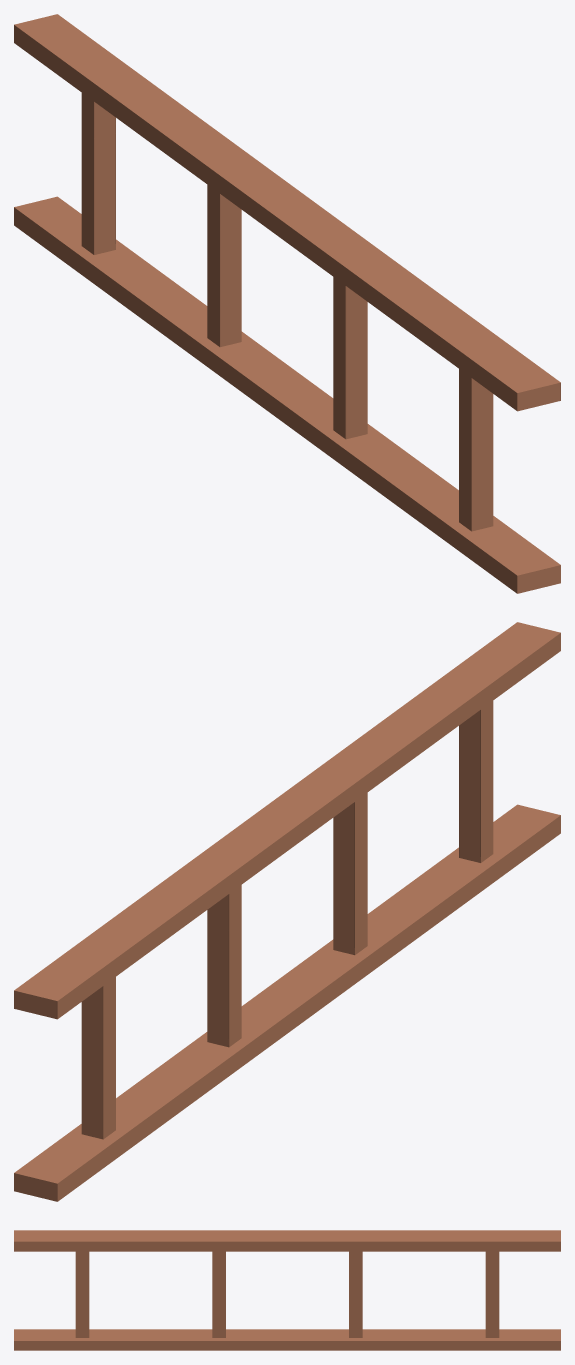
The model's file is stairs.glb.
3 renders of one model, top to bottom at view 1: azimuth 30°, elevation 25°; view 2: azimuth 150°, elevation 25°; view 3: azimuth 270°, elevation 25°, orthographic. The views are drawn at different scales.
Parts seen in each view (by area): view 1: Stairs; view 2: Stairs; view 3: Stairs.
Boxes of the visible parts, bbox=[...] form: Stairs: bbox=[14, 14, 560, 593]; Stairs: bbox=[14, 622, 560, 1201]; Stairs: bbox=[14, 1230, 560, 1350].
Bounding box in the file's own units: 0.2 × 0.88 × 4.
1 material, 1 textured.
